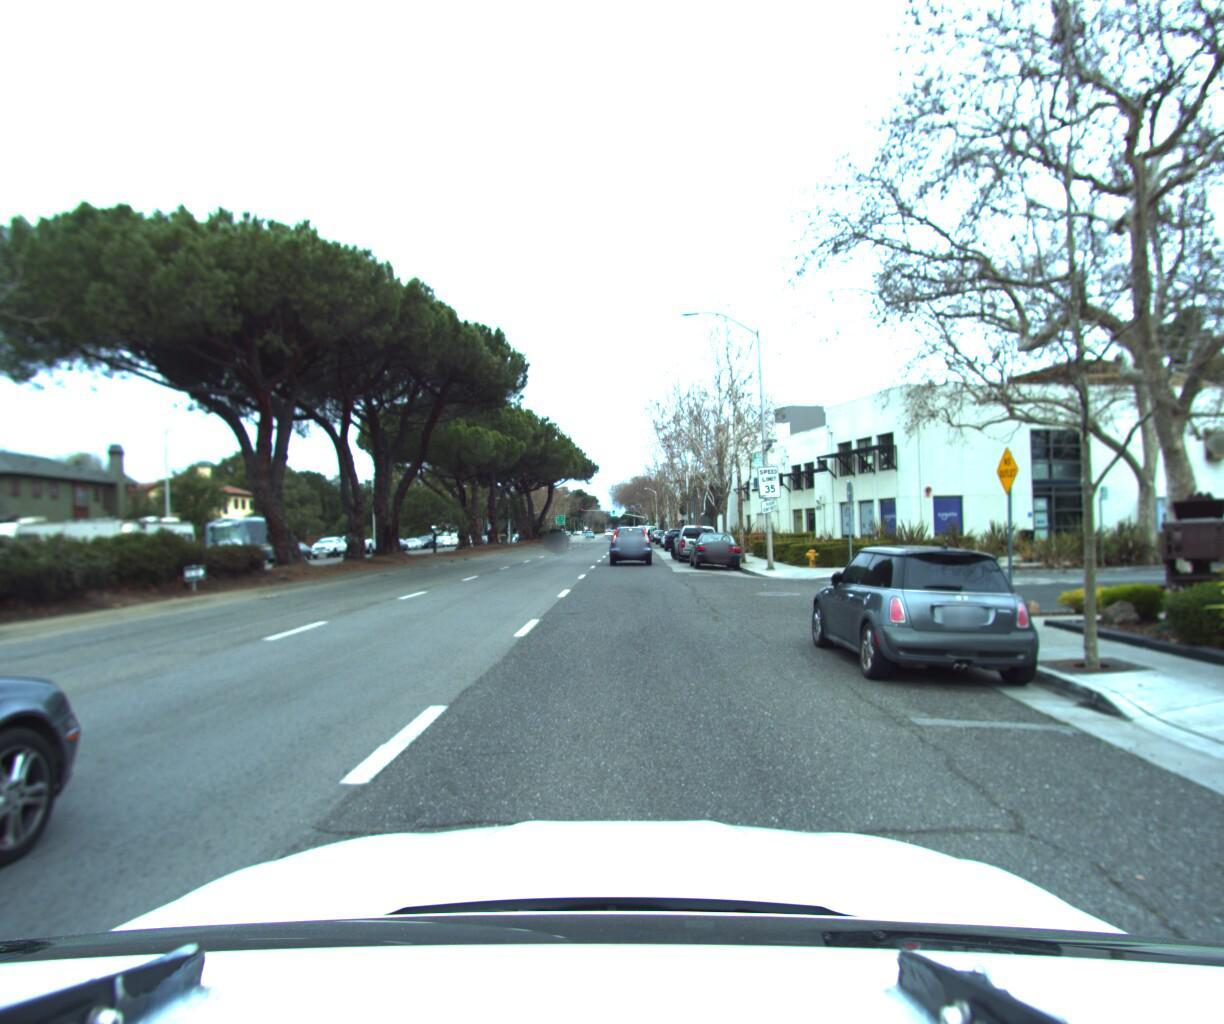car: (0, 548, 120, 1024), (797, 531, 1058, 690), (667, 518, 726, 561), (686, 525, 742, 569), (606, 520, 655, 564), (307, 533, 353, 558), (661, 522, 690, 548), (542, 526, 571, 547)
other_vehicle: (0, 510, 139, 599), (79, 511, 217, 580), (202, 513, 297, 568)
